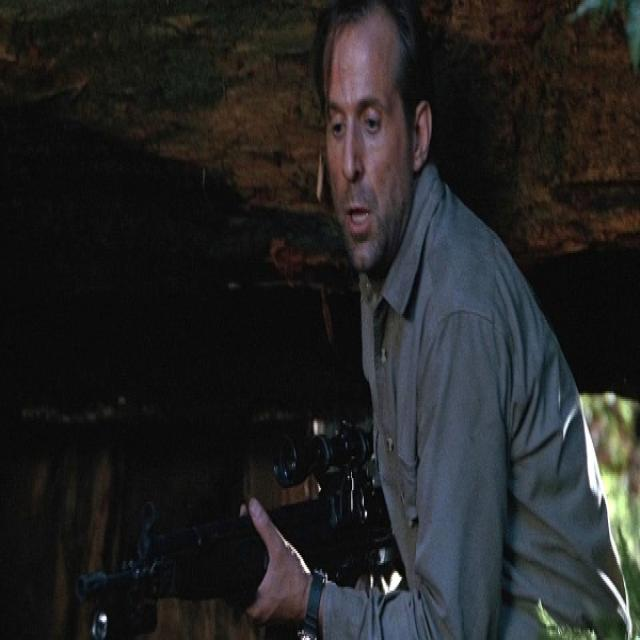rifle: (69, 414, 395, 640)
